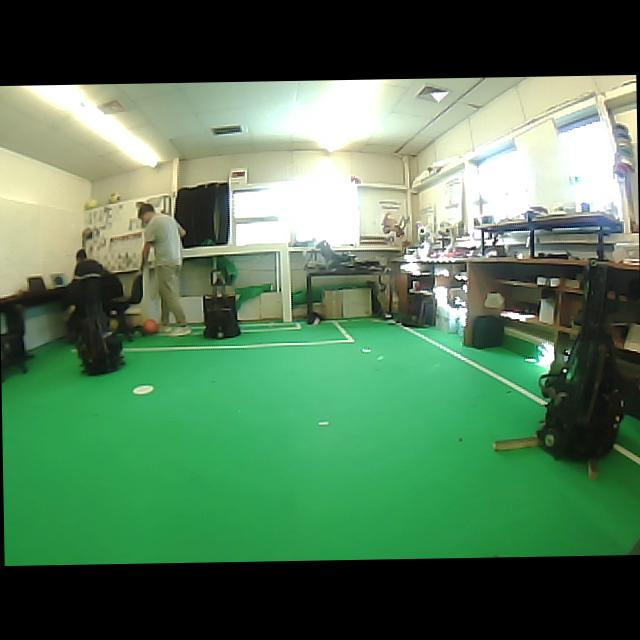ball: (143, 319, 157, 333), (84, 198, 98, 208), (108, 192, 119, 203)
goal: (279, 243, 291, 321)
robot: (537, 261, 623, 460), (77, 304, 124, 373), (203, 268, 239, 338)
